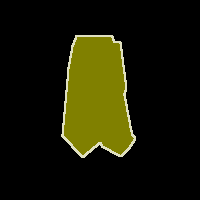tie: (62, 35, 135, 157)
